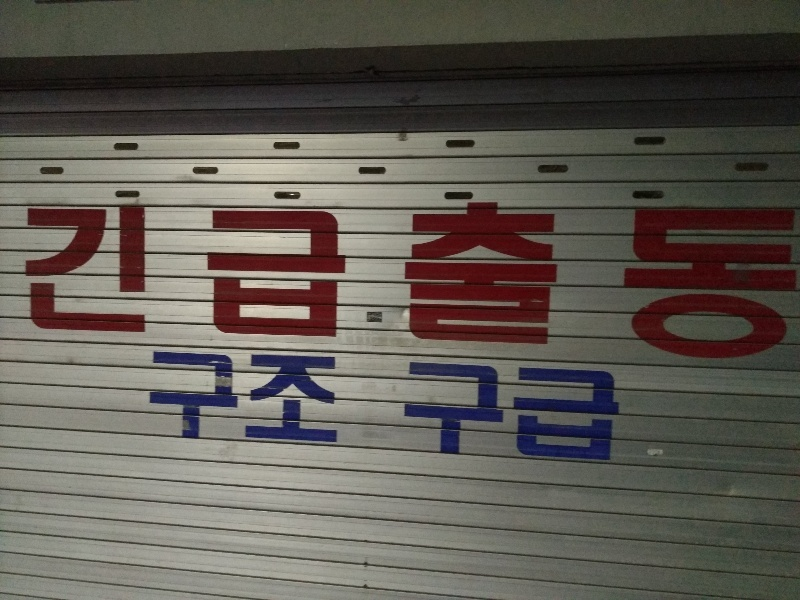text: (33, 204, 48, 371), (49, 204, 64, 371), (65, 204, 80, 371), (81, 204, 96, 371), (97, 204, 112, 371), (113, 204, 128, 371), (129, 204, 144, 371), (145, 204, 160, 371), (161, 204, 176, 371), (177, 204, 192, 371), (193, 204, 208, 371), (209, 204, 224, 371), (225, 204, 240, 371), (241, 204, 256, 371), (257, 204, 272, 371), (273, 204, 288, 371), (289, 204, 304, 371), (305, 204, 320, 371), (321, 204, 336, 371), (337, 204, 352, 371), (353, 204, 368, 371), (369, 204, 384, 371), (385, 204, 400, 371), (401, 204, 416, 371), (417, 204, 432, 371), (433, 204, 448, 371), (449, 204, 464, 371), (465, 204, 480, 371), (481, 204, 496, 371), (497, 204, 512, 371), (513, 204, 528, 371), (529, 204, 544, 371), (545, 204, 560, 371), (561, 204, 576, 371), (577, 204, 592, 371), (593, 204, 608, 371), (609, 204, 624, 371), (625, 204, 640, 371), (641, 204, 656, 371), (657, 204, 672, 371), (673, 204, 688, 371), (689, 204, 704, 371), (705, 204, 720, 371), (721, 204, 736, 371), (737, 204, 752, 371), (753, 204, 768, 371), (769, 204, 784, 371), (785, 204, 800, 371), (21, 204, 32, 371), (417, 356, 432, 465), (433, 356, 448, 465), (449, 356, 464, 465), (465, 356, 480, 465), (481, 356, 496, 465), (497, 356, 512, 465), (513, 356, 528, 465), (529, 356, 544, 465), (545, 356, 560, 465), (561, 356, 576, 465), (577, 356, 592, 465), (593, 356, 608, 465), (609, 356, 624, 465), (161, 351, 176, 450), (177, 351, 192, 450), (193, 351, 208, 450), (209, 351, 224, 450), (225, 351, 240, 450), (241, 351, 256, 450), (257, 351, 272, 450), (273, 351, 288, 450), (289, 351, 304, 450), (305, 351, 320, 450), (321, 351, 336, 450), (407, 356, 416, 465), (152, 351, 160, 450), (337, 351, 340, 450), (625, 356, 627, 465)
